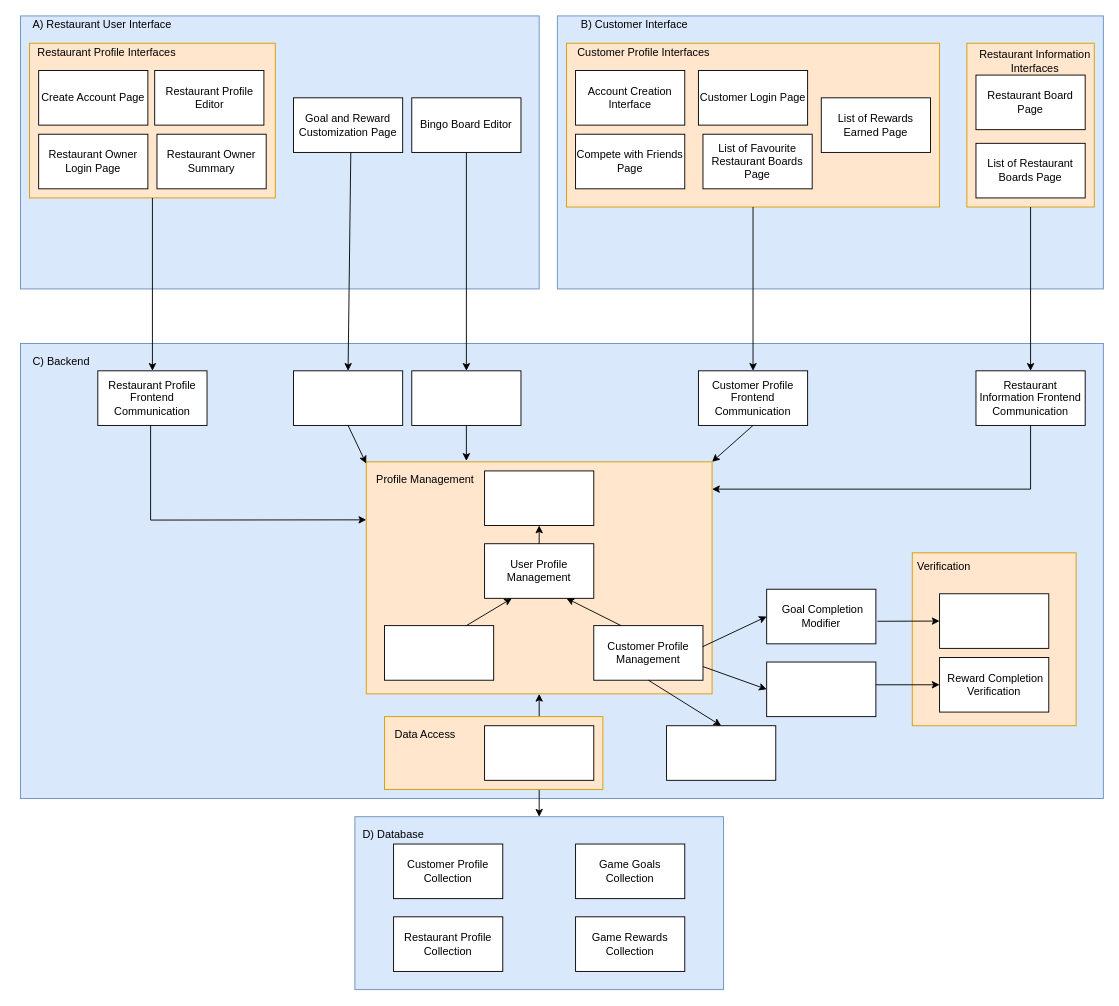
This 1119x1006 diagram has some shape labels left out. Each missing label, with the box of its shape:
Bingo Board Frontend Communication: (411, 370, 521, 425)
Database Communication: (484, 725, 594, 780)
Friend Reward Comparison: (666, 725, 776, 780)
Goal Completion Verification: (939, 593, 1049, 648)
Goals and Rewards Customization Frontend Communication: (293, 370, 403, 425)
Restaurant Profile Management: (384, 625, 494, 680)
Reward Completion Modifier: (766, 661, 876, 717)
User Authentication: (484, 470, 594, 526)
